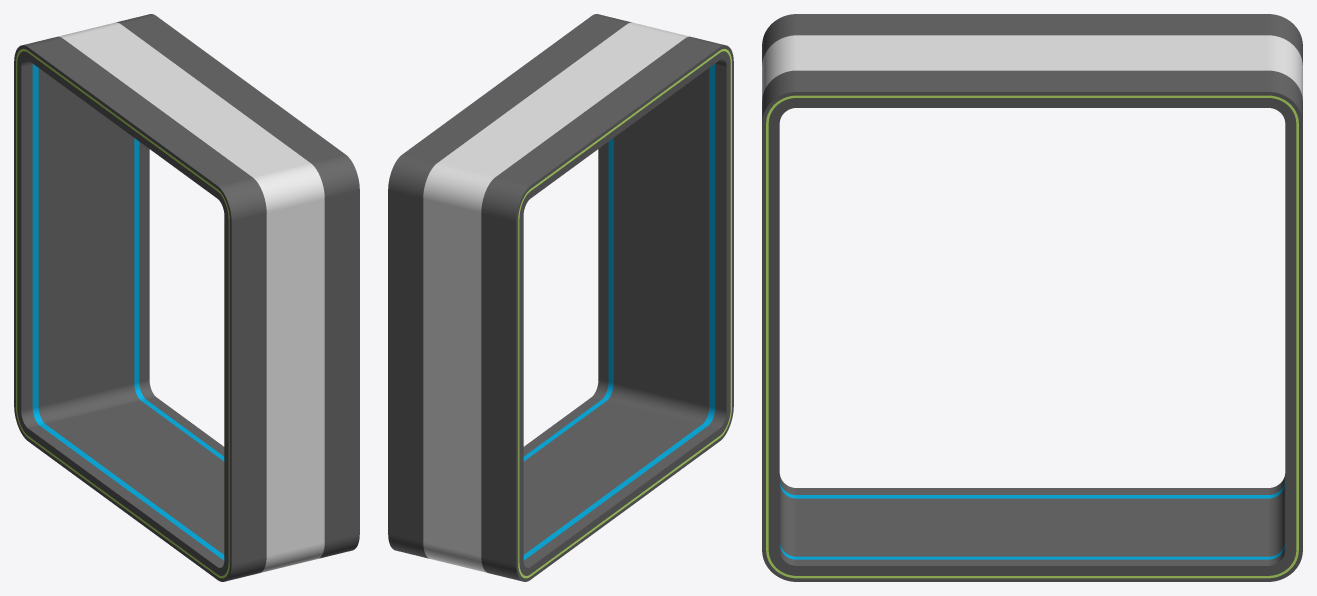
Rendered from scifi-shelf-structure.fbx.
The picture shows the model from 3 angles, left to right: view 1: azimuth 30°, elevation 25°; view 2: azimuth 150°, elevation 25°; view 3: azimuth 270°, elevation 25°; orthographic projection. The views are drawn at different scales.
Parts seen in each view (by area): view 1: Cube.001; view 2: Cube.001; view 3: Cube.001.
Part boxes in pixels (x1,y1,x2,y2): Cube.001: (14,14,359,581); Cube.001: (388,14,733,581); Cube.001: (762,14,1302,581).
Size of the model in its own units: 437 by 1284 by 1284.
